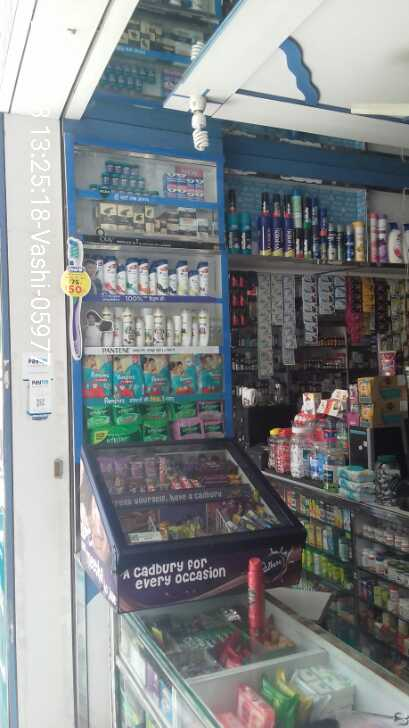beauty: (98, 202, 118, 236), (152, 305, 166, 347), (122, 306, 135, 349), (196, 308, 211, 345), (103, 255, 117, 294), (118, 204, 134, 236), (179, 309, 192, 345), (126, 256, 137, 296), (137, 258, 149, 294), (156, 259, 168, 294), (175, 260, 188, 291), (144, 308, 153, 347), (198, 261, 208, 295), (116, 266, 127, 294), (144, 206, 155, 234), (133, 212, 145, 237), (187, 270, 198, 296)
pharmacy: (112, 354, 144, 399), (79, 355, 112, 397), (194, 353, 224, 393), (169, 354, 196, 395), (144, 355, 170, 396), (91, 426, 140, 443), (114, 403, 146, 425), (170, 418, 203, 437), (141, 420, 169, 442), (196, 401, 224, 420), (169, 399, 197, 418), (86, 405, 114, 424), (204, 420, 224, 438), (163, 170, 174, 197), (193, 176, 204, 190), (137, 177, 147, 192), (130, 165, 140, 178), (101, 174, 112, 185), (186, 175, 194, 190), (105, 160, 114, 173), (115, 162, 122, 174)
